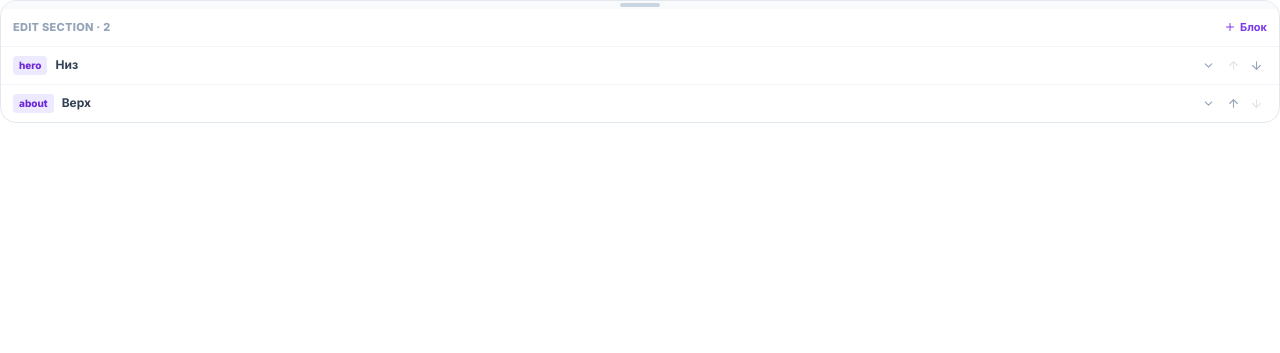
Test: SectionsPanel: высота блока (pad) › у границ: компактная — «ниже» отключена, просторная — «выше» отключена
Click the text "Низ" at x=67, y=64, box [56,57,78,72]
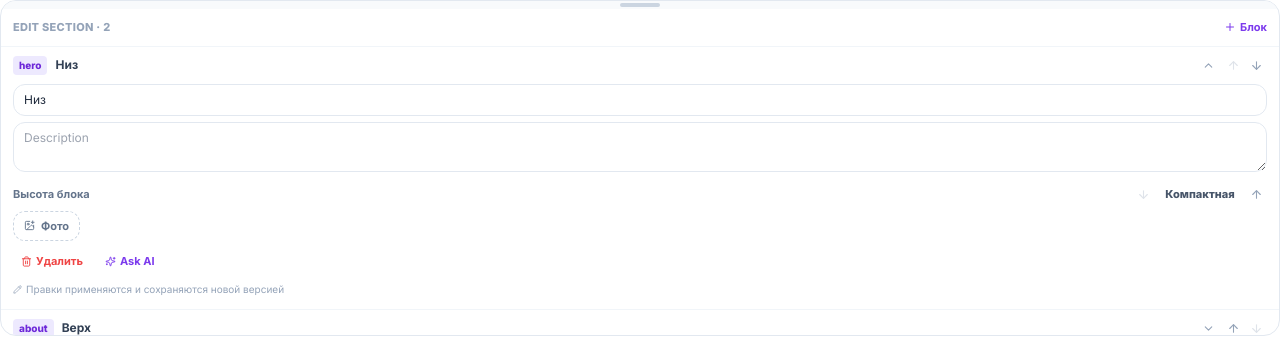
Result: the button titled "Сделать блок ниже" is disabled at [1133,184,1154,204]
Result: the button titled "Сделать блок выше" is enabled at [1246,184,1267,204]
Click the text "Верх" at x=76, y=328, box [62,320,91,335]
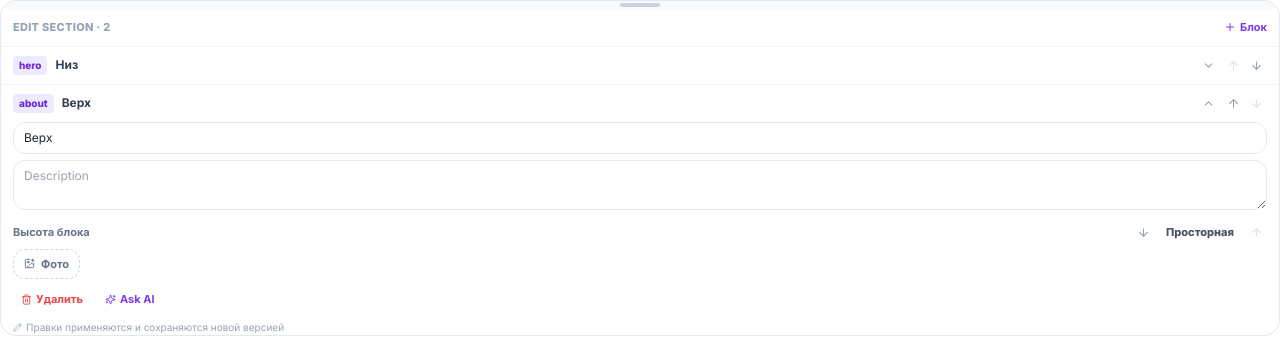
Result: the button titled "Сделать блок выше" is disabled at [1246,222,1267,242]
Result: the button titled "Сделать блок ниже" is enabled at [1133,222,1154,242]
